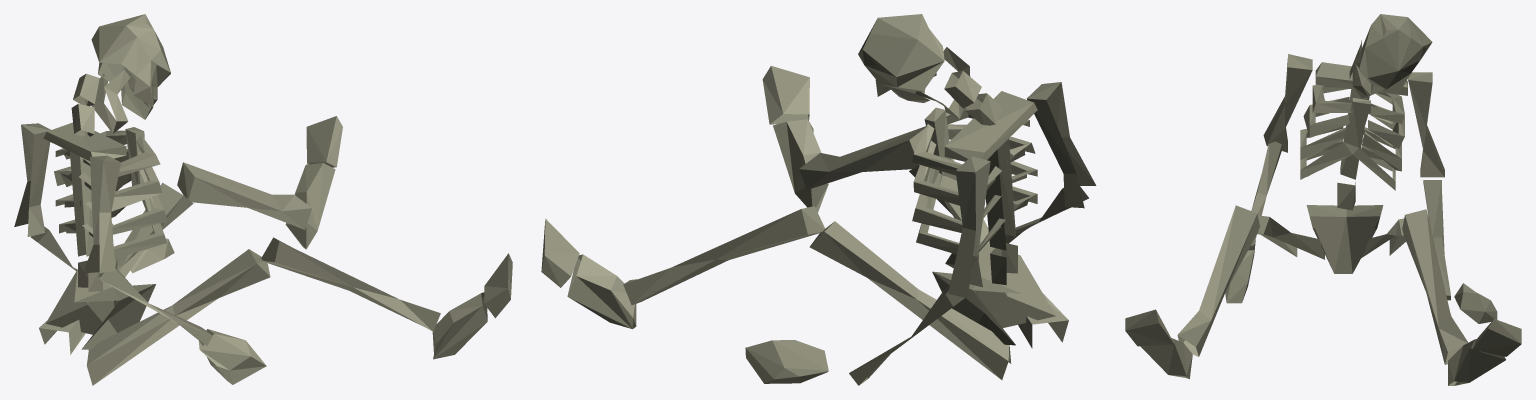
File: dskelly2.fbx
3 renders of one model, left to right at view 1: azimuth 30°, elevation 25°; view 2: azimuth 150°, elevation 25°; view 3: azimuth 270°, elevation 25°, orthographic. The views are drawn at different scales.
Visible parts, largest first — view 1: Object Skeleton 2024-03-16_08-26-01; view 2: Object Skeleton 2024-03-16_08-26-01; view 3: Object Skeleton 2024-03-16_08-26-01.
Boxes of the visible parts, x1=… form: Object Skeleton 2024-03-16_08-26-01: x1=14, y1=14, x2=512, y2=385; Object Skeleton 2024-03-16_08-26-01: x1=541, y1=14, x2=1096, y2=385; Object Skeleton 2024-03-16_08-26-01: x1=1125, y1=14, x2=1521, y2=385.
Size of the model in its own units: 12600 by 10000 by 12900.
